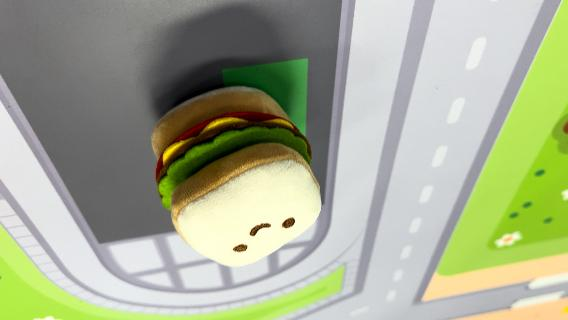sandwich: (149, 82, 325, 268)
